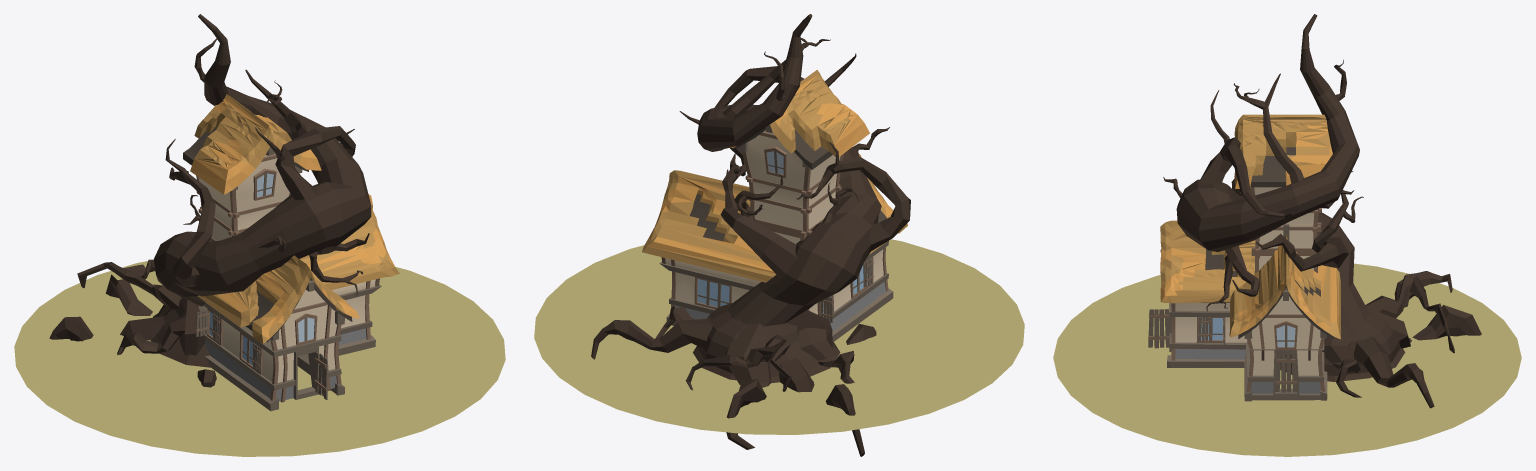
File: fantasy_house_low_poly.glb
3 renders of one model, left to right at view 1: azimuth 30°, elevation 25°; view 2: azimuth 150°, elevation 25°; view 3: azimuth 270°, elevation 25°, orthographic. The views are drawn at different scales.
Parts seen in each view (by area): view 1: object 1; view 2: object 1; view 3: object 1, Cube.002_0, Cube.001_0.
Boxes of the visible parts, x1,y1,x2,y2 form: object 1: [14, 14, 505, 456]; object 1: [534, 14, 1024, 456]; object 1: [1053, 14, 1521, 456]; Cube.002_0: [1148, 309, 1169, 348]; Cube.001_0: [1275, 354, 1297, 392].
Size of the model in its own units: 37.5 by 33.34 by 37.5.
